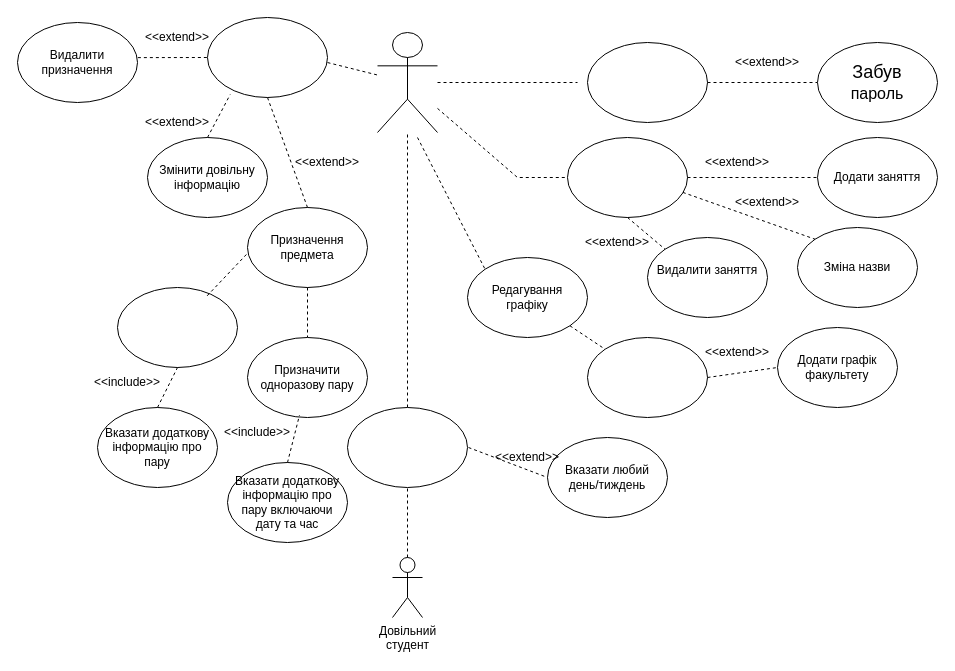
Some shapes in this 955 by 671 pixel diagram are drawn without their labels. The shapes that lost their labels are listed below. From the top down, each one's centre as x and y in pixels, then its label:
At point (267, 57): "Редагування розкладу".
At point (407, 82): "СТАРОСТА".
At point (647, 82): "Вхід".
At point (627, 177): "Редагування заняття у списку занять".
At point (177, 327): "Призначити постійну чи періодичну пару".
At point (647, 377): "Обрати заготовлений графік факультету".
At point (407, 447): "Переглянути розклад".
